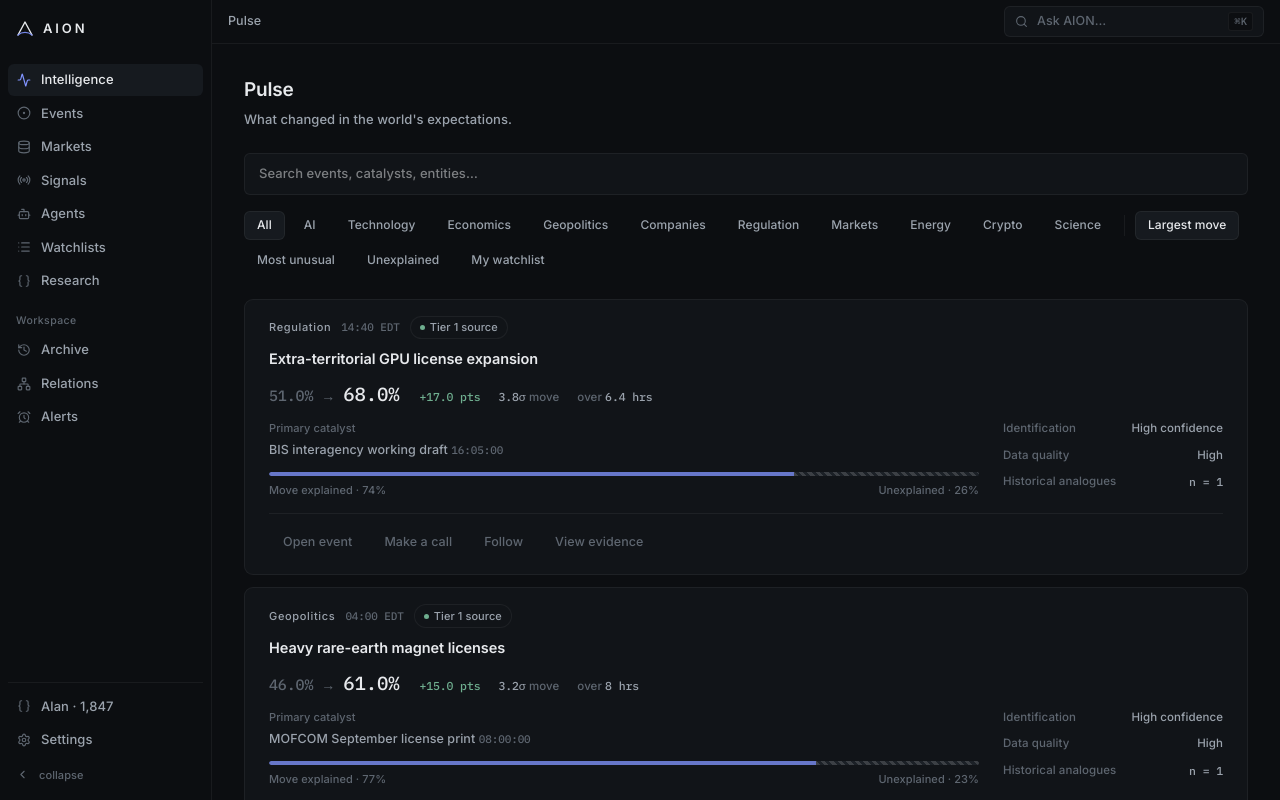
Test: AppShell › filters the pulse by category and opens the command palette
This screenshot has width=1280, height=800.
Click the button "AI" at point(310, 225), box [291,210,329,240]
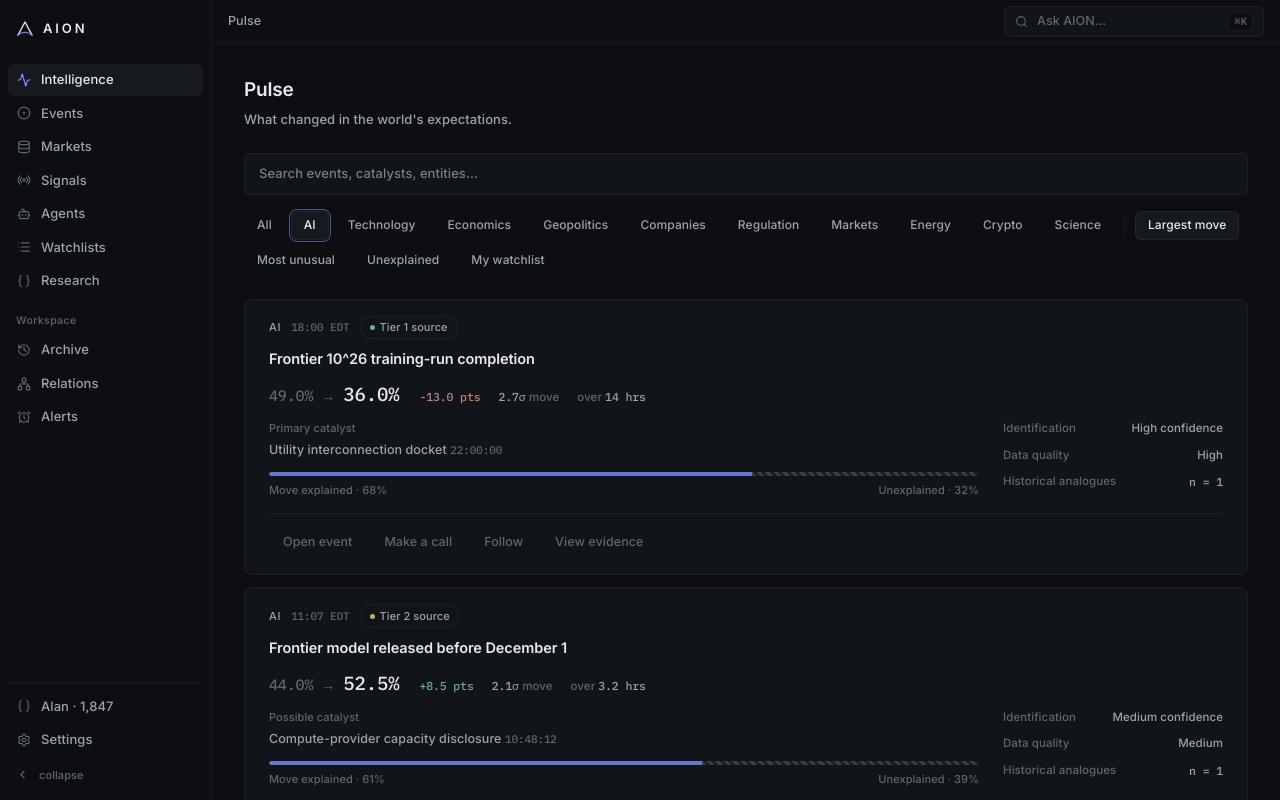
Expected: the text "Bank of Canada cuts rates in October" is not shown
Expected: the heading "Frontier model released before December 1" is shown, [269,639,567,656]
Click the button "Ask AION… ⌘K" at point(1072, 21), box [1004,6,1264,37]
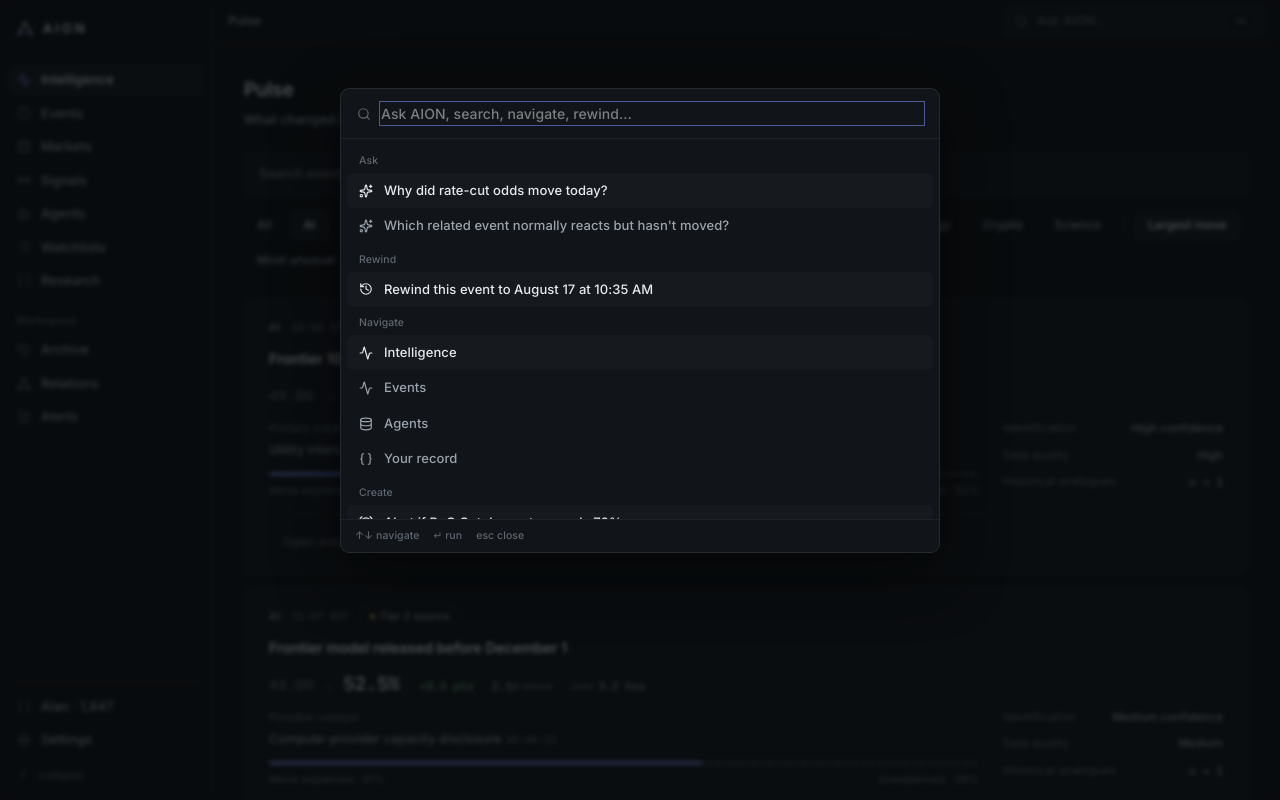
Expected: the dialog named "Command palette" is shown, [340,88,940,553]
